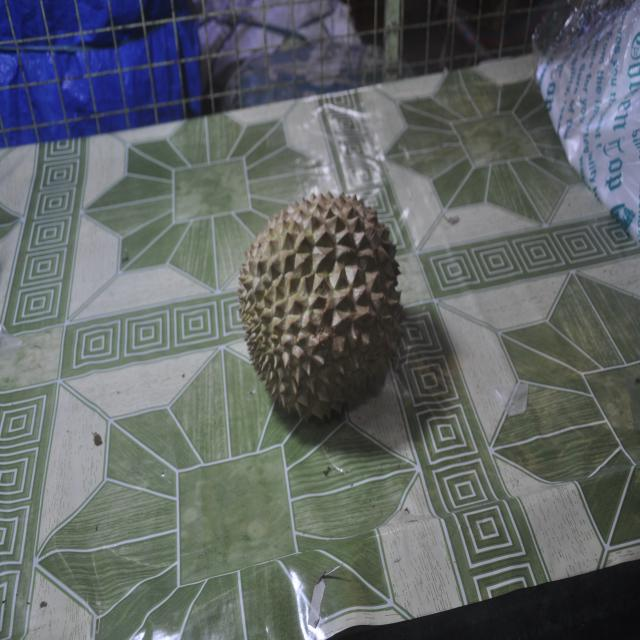mature: (238, 190, 405, 431)
